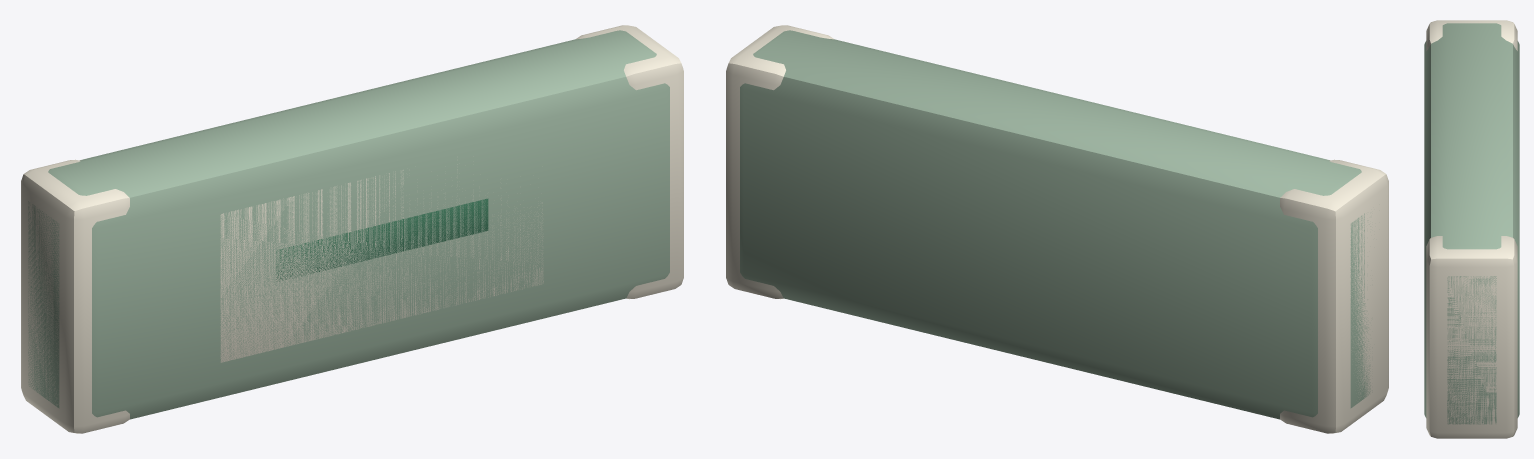
The model's file is checkout_product_snack_bar.glb.
3 renders of one model, left to right at view 1: azimuth 30°, elevation 25°; view 2: azimuth 150°, elevation 25°; view 3: azimuth 270°, elevation 25°, orthographic. The views are drawn at different scales.
Parts seen in each view (by area): view 1: SnackBarWrapper, SnackBarLabel, SnackBarCrimp_1, SnackBarStripe, SnackBarCrimp_2; view 2: SnackBarWrapper, SnackBarCrimp_1, SnackBarCrimp_2; view 3: SnackBarWrapper, SnackBarCrimp_2, SnackBarCrimp_1.
Boxes of the visible parts, x1,y1,x2,y2 form: SnackBarWrapper: [28, 30, 669, 419]; SnackBarLabel: [220, 164, 543, 362]; SnackBarCrimp_1: [21, 159, 129, 433]; SnackBarStripe: [276, 198, 488, 281]; SnackBarCrimp_2: [576, 25, 683, 299]; SnackBarWrapper: [740, 30, 1372, 419]; SnackBarCrimp_1: [1280, 159, 1388, 433]; SnackBarCrimp_2: [726, 25, 833, 299]; SnackBarWrapper: [1424, 23, 1519, 424]; SnackBarCrimp_2: [1426, 236, 1517, 438]; SnackBarCrimp_1: [1426, 20, 1517, 50].
Bounding box in the file's own units: 0.15 × 0.055 × 0.025.
